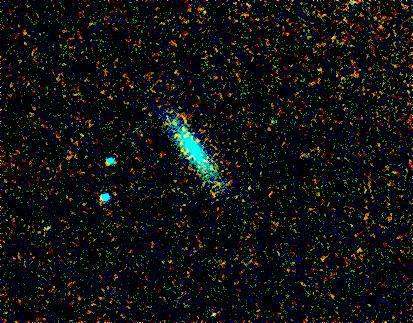star: (182, 125, 212, 155)
